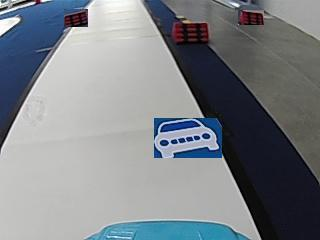bomb: (170, 21, 209, 42)
